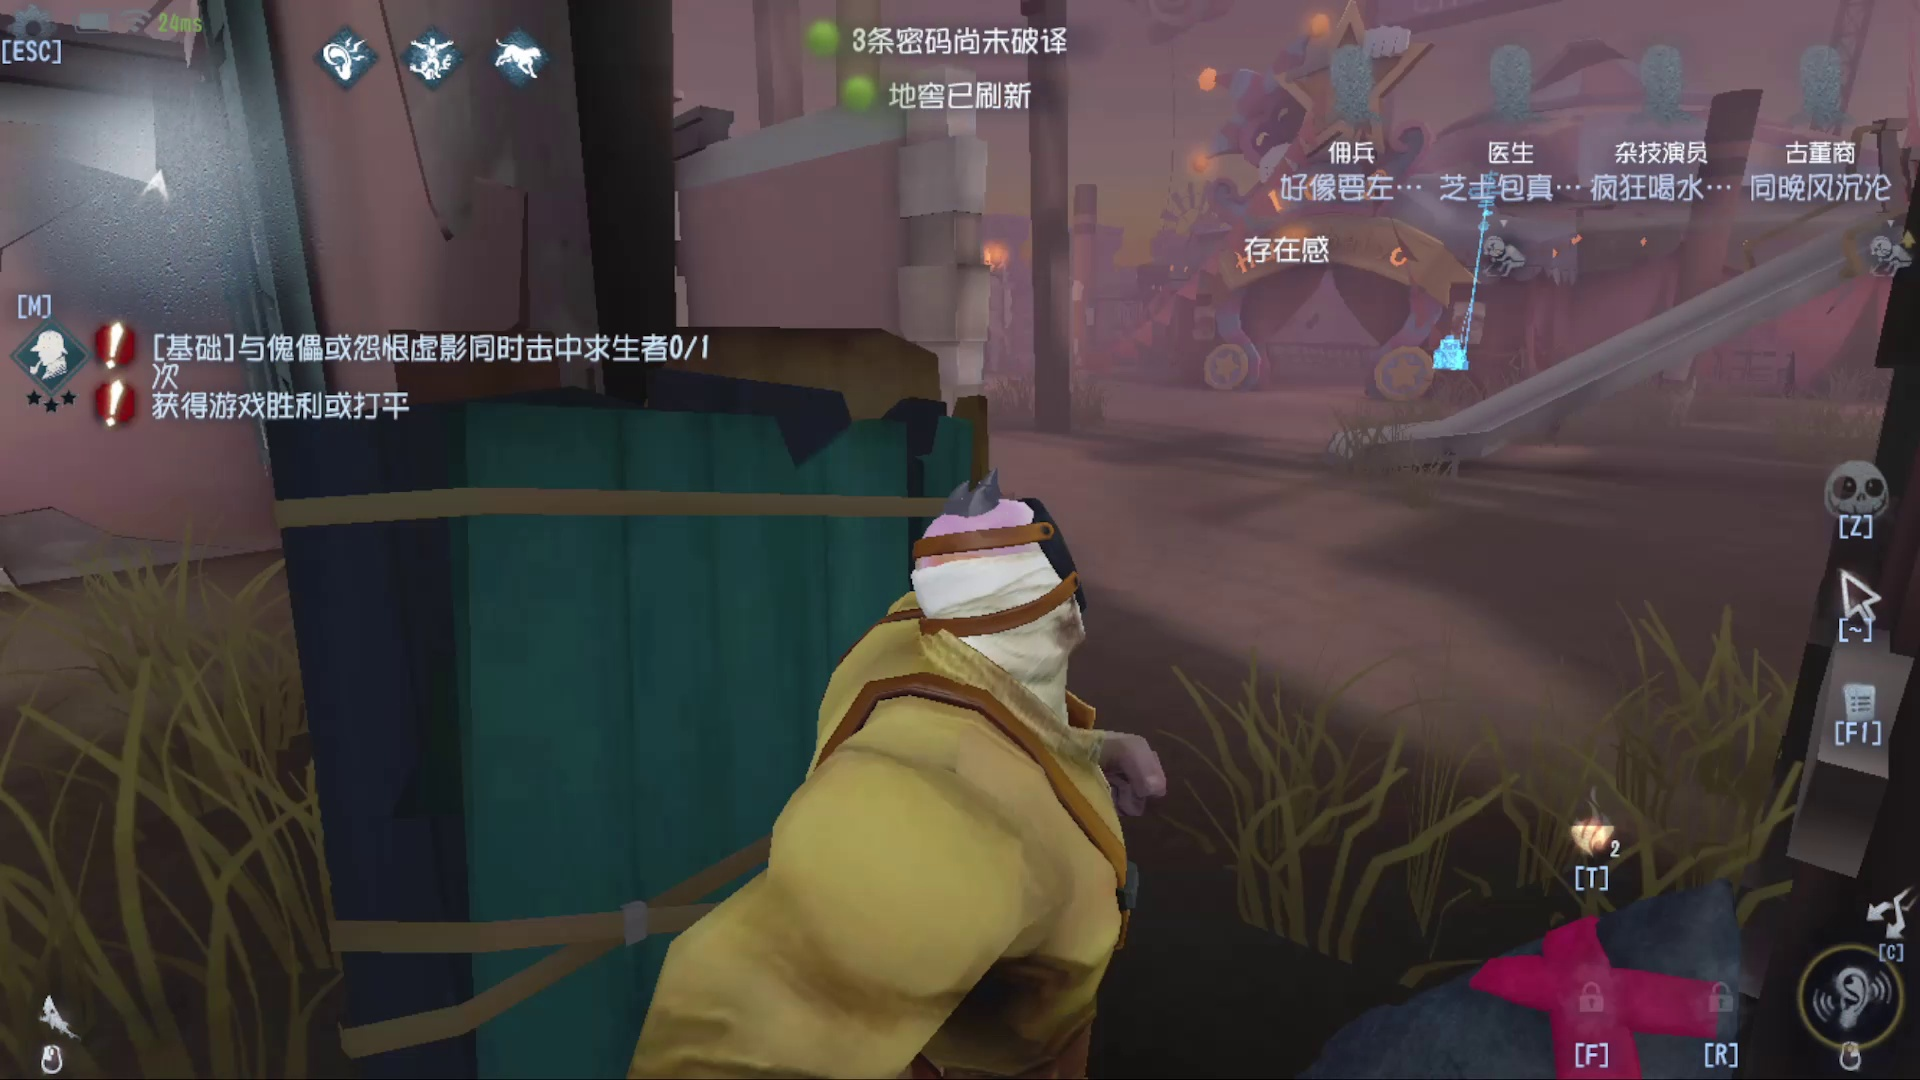密码机: (1431, 149, 1501, 389)
木板: (273, 316, 990, 870)
